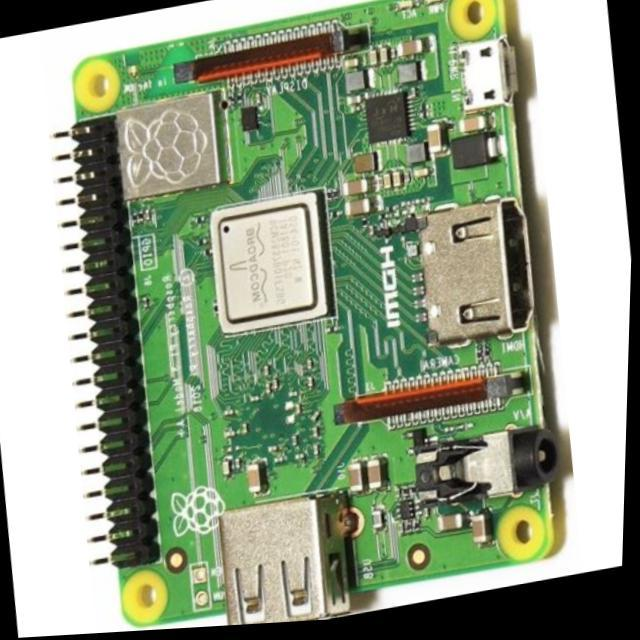Raspberry-Pi-3-A-: (61, 1, 564, 629)
